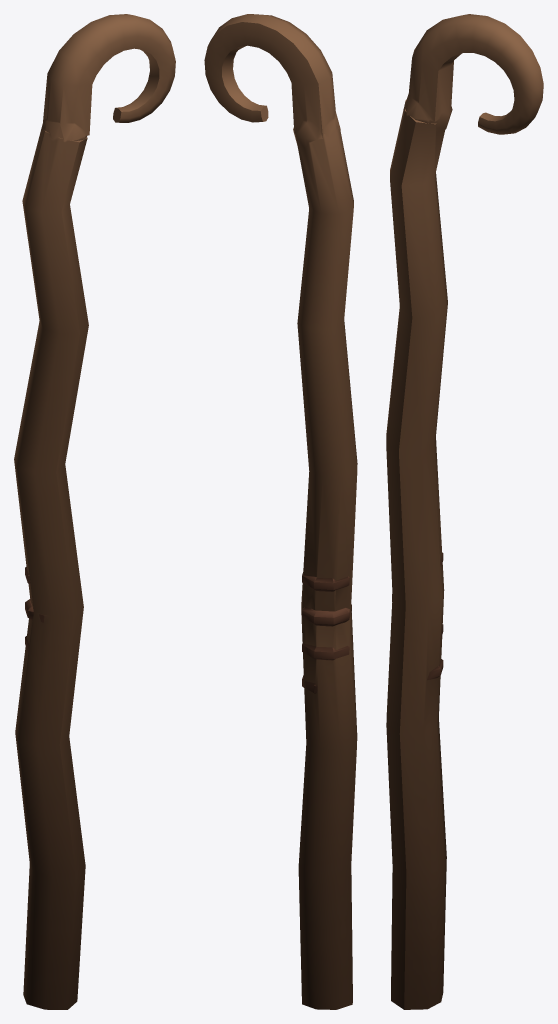
Rendered from staff_crooked.glb.
3 renders of one model, left to right at view 1: azimuth 30°, elevation 25°; view 2: azimuth 150°, elevation 25°; view 3: azimuth 330°, elevation 25°, orthographic. The views are drawn at different scales.
Parts seen in each view (by area): view 1: Item; view 2: Item; view 3: Item.
Part boxes in pixels (bbox=[...]): Item: bbox=[14, 14, 175, 1009]; Item: bbox=[204, 14, 357, 1009]; Item: bbox=[386, 14, 543, 1009].
Bounding box in the file's own units: 0.3717 × 2.24 × 0.1381.
1 material, 1 textured.
